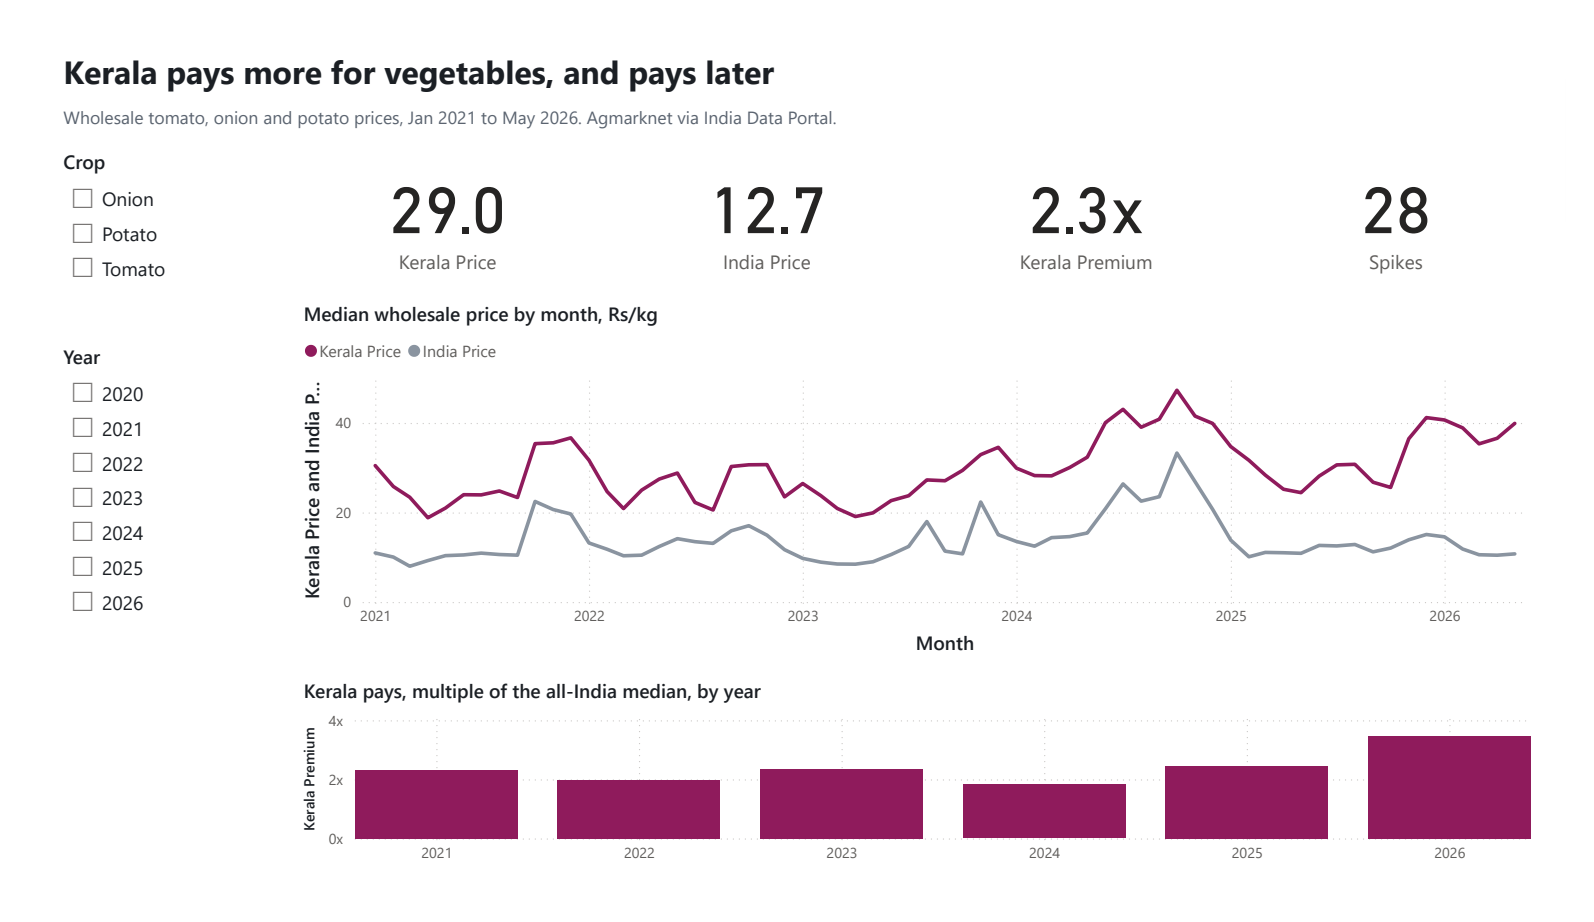

What the dashboard file says about the page in this screenshot:
{"tool":"powerbi","page":{"name":"Overview","canvas":[1280,720],"ordinal":0},"visuals":[{"type":"textbox","box":[24,12,1100,52],"z":0},{"type":"textbox","box":[24,58,1000,30],"z":1000},{"type":"slicer","title":"Crop","fields":{"Values":["Crop.Crop"]},"box":[24,100,180,150],"z":2000},{"type":"slicer","title":"Year","fields":{"Values":["Date.Year"]},"box":[24,262,180,250],"z":3000},{"type":"card","fields":{"Values":["Daily Price.Kerala Price"]},"box":[224,100,250,110],"z":4000},{"type":"card","fields":{"Values":["Daily Price.India Price"]},"box":[490,100,250,110],"z":5000},{"type":"card","fields":{"Values":["Daily Price.Kerala Premium"]},"box":[756,100,250,110],"z":6000},{"type":"card","fields":{"Values":["Spike Events.Spikes"]},"box":[1022,100,234,110],"z":7000},{"type":"lineChart","title":"Median wholesale price by month, Rs/kg","fields":{"Category":["Date.Month"],"Y":["Daily Price.Kerala Price","Daily Price.India Price"]},"box":[224,226,1032,300],"z":8000},{"type":"clusteredColumnChart","title":"Kerala pays, multiple of the all-India median, by year","fields":{"Category":["Date.Year"],"Y":["Daily Price.Kerala Premium"]},"box":[224,540,1032,164],"z":9000}]}

Visuals, with their boxes in screenshot pixels (x1, y1, x2, y2), scaled from the page's 1280x720 canvas onto the 1594x922 screenshot:
textbox: pyautogui.locateOnScreen(30, 15, 1400, 82)
textbox: pyautogui.locateOnScreen(30, 74, 1275, 113)
"Crop" slicer: pyautogui.locateOnScreen(30, 128, 254, 320)
"Year" slicer: pyautogui.locateOnScreen(30, 336, 254, 656)
card - Daily Price.Kerala Price: pyautogui.locateOnScreen(279, 128, 590, 269)
card - Daily Price.India Price: pyautogui.locateOnScreen(610, 128, 922, 269)
card - Daily Price.Kerala Premium: pyautogui.locateOnScreen(941, 128, 1253, 269)
card - Spike Events.Spikes: pyautogui.locateOnScreen(1273, 128, 1564, 269)
"Median wholesale price by month, Rs/kg" lineChart: pyautogui.locateOnScreen(279, 289, 1564, 674)
"Kerala pays, multiple of the all-India median, by year" clusteredColumnChart: pyautogui.locateOnScreen(279, 691, 1564, 902)
